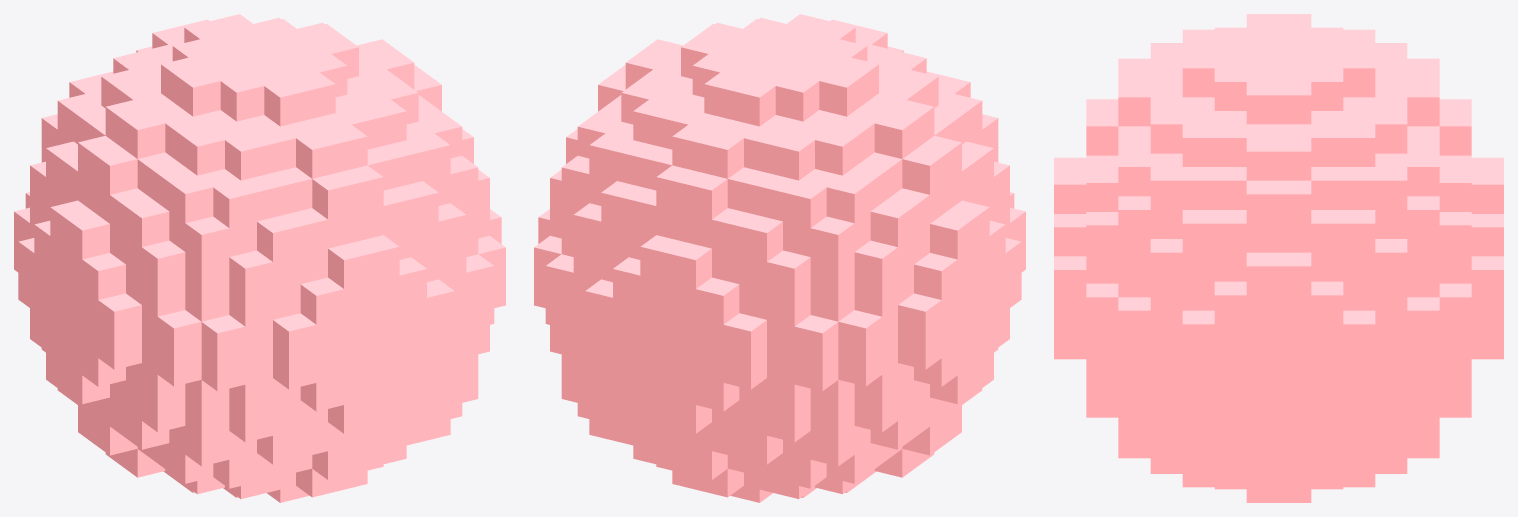
File: salmon-ball.gltf
3 renders of one model, left to right at view 1: azimuth 30°, elevation 25°; view 2: azimuth 150°, elevation 25°; view 3: azimuth 270°, elevation 25°, orthographic.
Visible parts, largest first — view 1: 角球.1; view 2: 角球.1; view 3: 角球.1.
Boxes of the visible parts, <box> form: 角球.1: <box>14,14,505,502</box>; 角球.1: <box>534,14,1025,502</box>; 角球.1: <box>1054,14,1503,502</box>.
Bounding box in the file's own units: 1.12 × 1.12 × 1.12.
